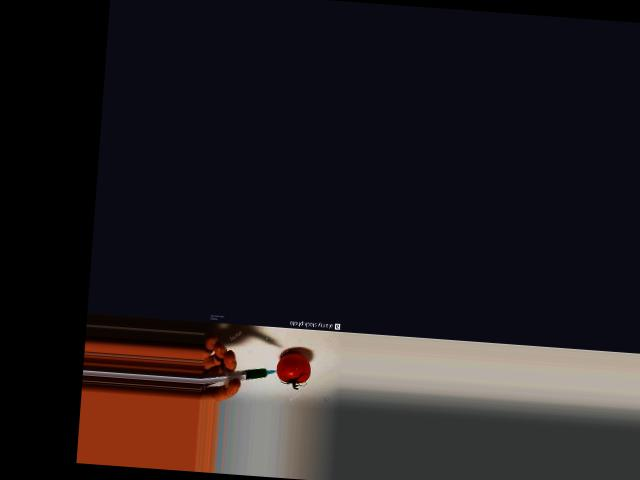tomato: (275, 351, 310, 383)
